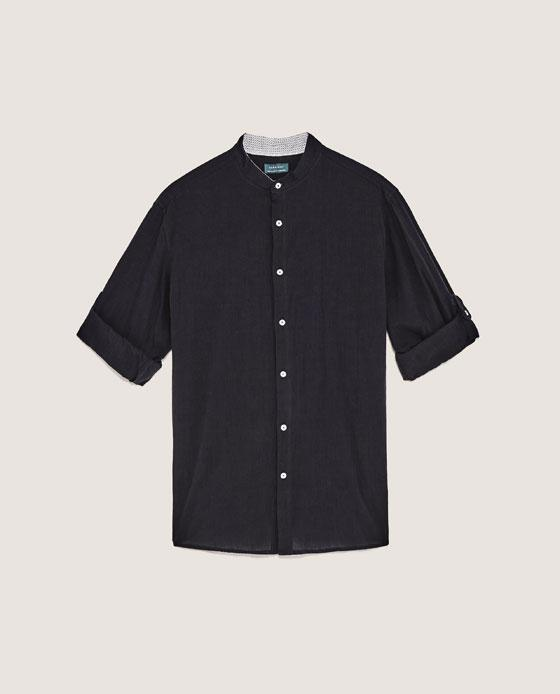teeshirt: (76, 126, 484, 585)
